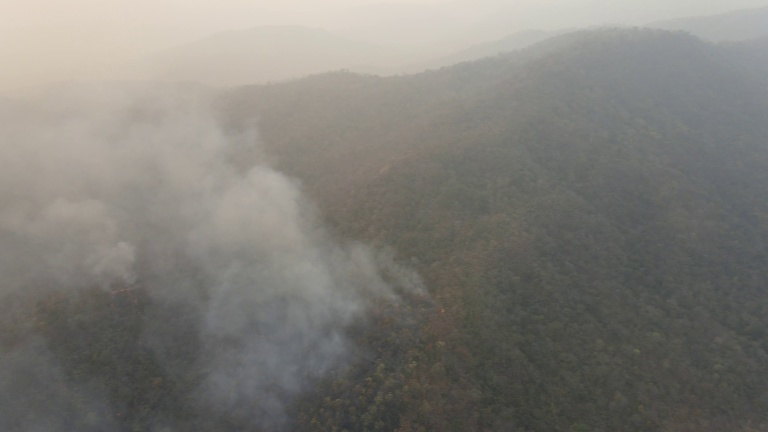fire: (97, 281, 146, 296), (434, 301, 451, 316)
smoke: (1, 32, 468, 429)
